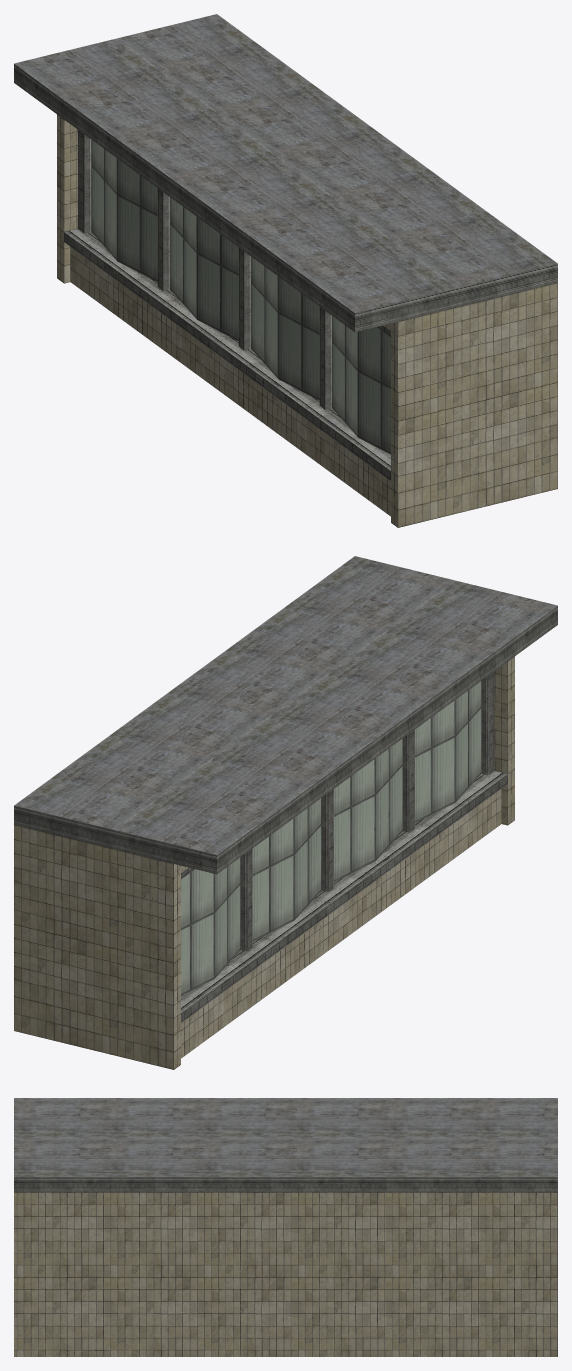
The model's file is civ_shop_a.FBX.
The picture shows the model from 3 angles, top to bottom: view 1: azimuth 30°, elevation 25°; view 2: azimuth 150°, elevation 25°; view 3: azimuth 270°, elevation 25°; orthographic projection. The views are drawn at different scales.
Parts seen in each view (by area): view 1: civ_shop_a; view 2: civ_shop_a; view 3: civ_shop_a.
Boxes of the visible parts, box(x1,y1,x2,y2) form: civ_shop_a: box(14, 14, 557, 527); civ_shop_a: box(14, 556, 557, 1069); civ_shop_a: box(14, 1098, 557, 1356).
Bounding box in the file's own units: 412 × 438 × 1200.
